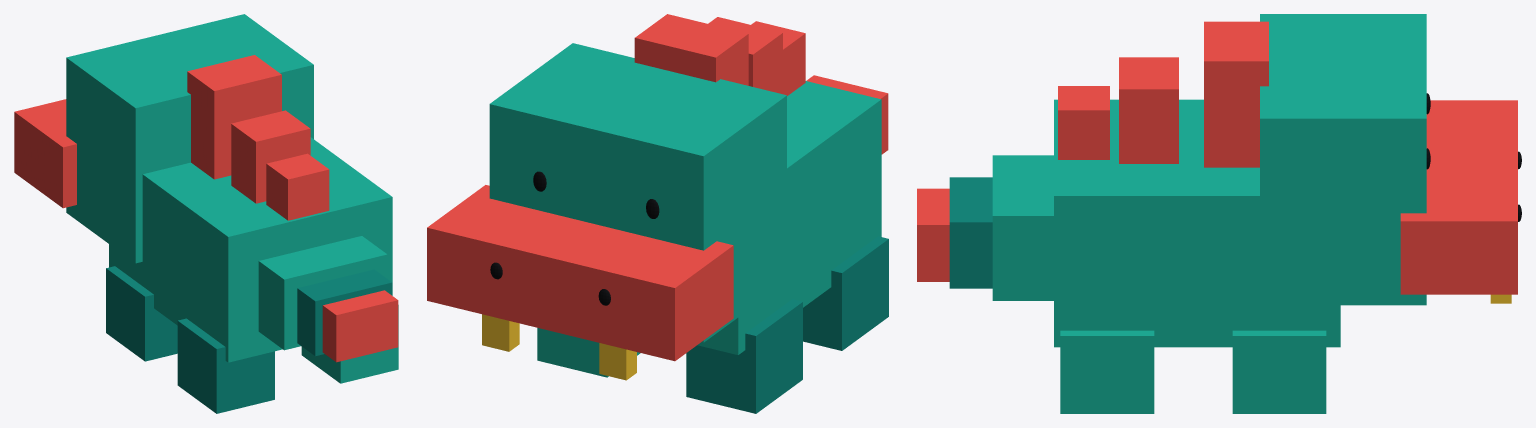
Rendered from Blockosaur_Boss.gltf.
3 views of the same model, side by side, from view 1: azimuth 30°, elevation 25°; view 2: azimuth 150°, elevation 25°; view 3: azimuth 270°, elevation 25° (orthographic). The views are drawn at different scales.
Visible parts, largest first — view 1: LongBody, SquareHead, BackBlockFront, TailRoot, LegRearLeft, BroadSnout, BackBlockMiddle, CoralTailTip, LegFrontLeft, BackBlockRear, TailMiddle, LegRearRight; view 2: SquareHead, BroadSnout, LongBody, LegFrontLeft, LegRearLeft, BackBlockFront, BackBlockMiddle, LegFrontRight, BackBlockRear, LowerToothLeft, LowerToothRight, CoralTailTip; view 3: SquareHead, LongBody, BroadSnout, TailRoot, BackBlockFront, LegRearRight, LegFrontRight, BackBlockMiddle, TailMiddle, BackBlockRear, CoralTailTip.
Part boxes in pixels (x1=…): LongBody: x1=109, y1=137, x2=392, y2=362; SquareHead: x1=66, y1=14, x2=313, y2=263; BackBlockFront: x1=187, y1=55, x2=281, y2=179; TailRoot: x1=258, y1=236, x2=387, y2=350; LegRearLeft: x1=177, y1=318, x2=274, y2=413; BroadSnout: x1=14, y1=99, x2=76, y2=208; BackBlockMiddle: x1=231, y1=110, x2=310, y2=203; CoralTailTip: x1=322, y1=290, x2=398, y2=362; LegFrontLeft: x1=106, y1=266, x2=177, y2=361; BackBlockRear: x1=266, y1=153, x2=329, y2=220; TailMiddle: x1=297, y1=269, x2=392, y2=356; LegRearRight: x1=301, y1=305, x2=398, y2=383; SquareHead: x1=489, y1=43, x2=786, y2=342; BroadSnout: x1=427, y1=185, x2=733, y2=361; LongBody: x1=697, y1=81, x2=881, y2=354; LegFrontLeft: x1=686, y1=299, x2=802, y2=413; LegRearLeft: x1=803, y1=236, x2=888, y2=350; BackBlockFront: x1=634, y1=14, x2=748, y2=85; BackBlockMiddle: x1=708, y1=17, x2=782, y2=94; LegFrontRight: x1=537, y1=328, x2=640, y2=377; BackBlockRear: x1=751, y1=21, x2=805, y2=95; LowerToothLeft: x1=599, y1=343, x2=636, y2=380; LowerToothRight: x1=482, y1=314, x2=519, y2=351; CoralTailTip: x1=806, y1=75, x2=888, y2=154; SquareHead: x1=1260, y1=14, x2=1426, y2=305; LongBody: x1=1054, y1=99, x2=1340, y2=347; BroadSnout: x1=1400, y1=100, x2=1517, y2=294; TailRoot: x1=992, y1=155, x2=1053, y2=300; BackBlockFront: x1=1204, y1=21, x2=1268, y2=167; LegRearRight: x1=1060, y1=330, x2=1154, y2=413; LegFrontRight: x1=1232, y1=330, x2=1326, y2=413; BackBlockMiddle: x1=1119, y1=57, x2=1178, y2=163; TailMiddle: x1=949, y1=177, x2=992, y2=288; BackBlockRear: x1=1058, y1=86, x2=1109, y2=159; CoralTailTip: x1=917, y1=188, x2=949, y2=281.
Size of the model in its own units: 2.2 by 2.7 by 4.64.
